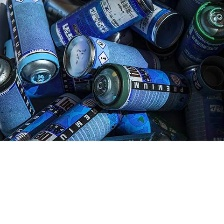aerosol_cans: (23, 89, 126, 153), (57, 30, 167, 88), (47, 0, 155, 59), (88, 59, 195, 117), (174, 60, 224, 168), (2, 0, 61, 87), (170, 0, 224, 77), (0, 52, 42, 140)
